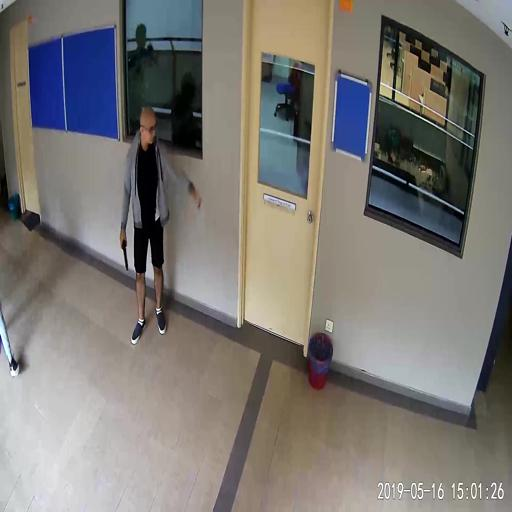pistol: (119, 234, 128, 269)
